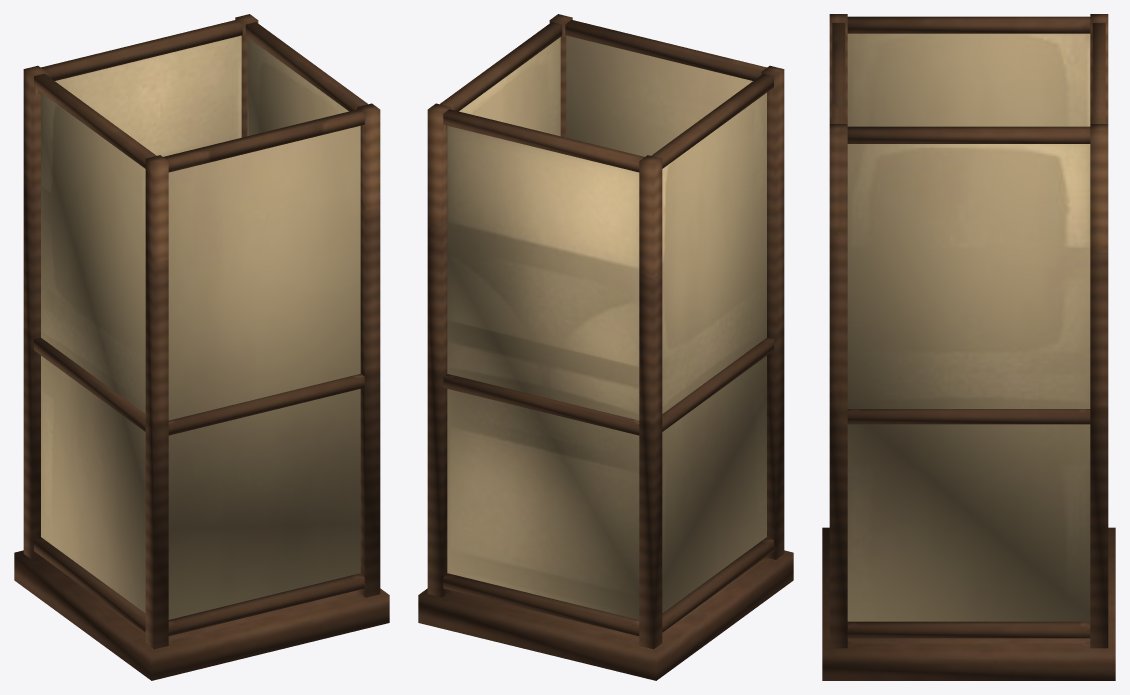
Rendered from andon.glb.
3 renders of one model, left to right at view 1: azimuth 30°, elevation 25°; view 2: azimuth 150°, elevation 25°; view 3: azimuth 270°, elevation 25°, orthographic. The views are drawn at different scales.
Parts seen in each view (by area): view 1: prop_andon_paper, prop_andon_wood; view 2: prop_andon_paper, prop_andon_wood; view 3: prop_andon_paper, prop_andon_wood.
Boxes of the visible parts, x1,y1,x2,y2 form: prop_andon_paper: [41, 35, 360, 619]; prop_andon_wood: [14, 14, 389, 680]; prop_andon_paper: [447, 35, 766, 619]; prop_andon_wood: [418, 14, 793, 680]; prop_andon_paper: [847, 33, 1090, 621]; prop_andon_wood: [822, 14, 1115, 680].
Bounding box in the file's own units: 0.72 × 1.48 × 0.72.
Materials: 2 (2 with a texture image).
